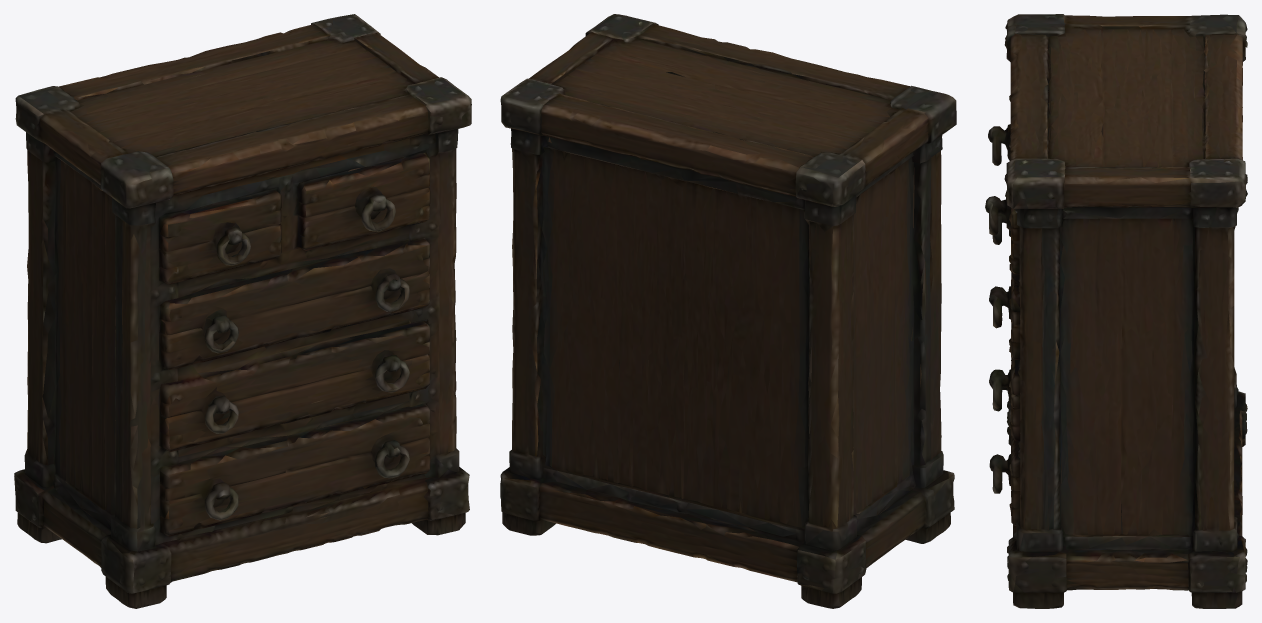
The model's file is Dresser_03.fbx.
3 renders of one model, left to right at view 1: azimuth 30°, elevation 25°; view 2: azimuth 150°, elevation 25°; view 3: azimuth 270°, elevation 25°, orthographic.
Parts seen in each view (by area): view 1: Dressers.003; view 2: Dressers.003; view 3: Dressers.003.
Boxes of the visible parts, box(x1,y1,x2,y2) form: Dressers.003: box(14, 14, 471, 608); Dressers.003: box(500, 14, 956, 608); Dressers.003: box(985, 14, 1247, 608).
Bounding box in the file's own units: 148 × 177 × 97.01.
1 material, 1 textured.
